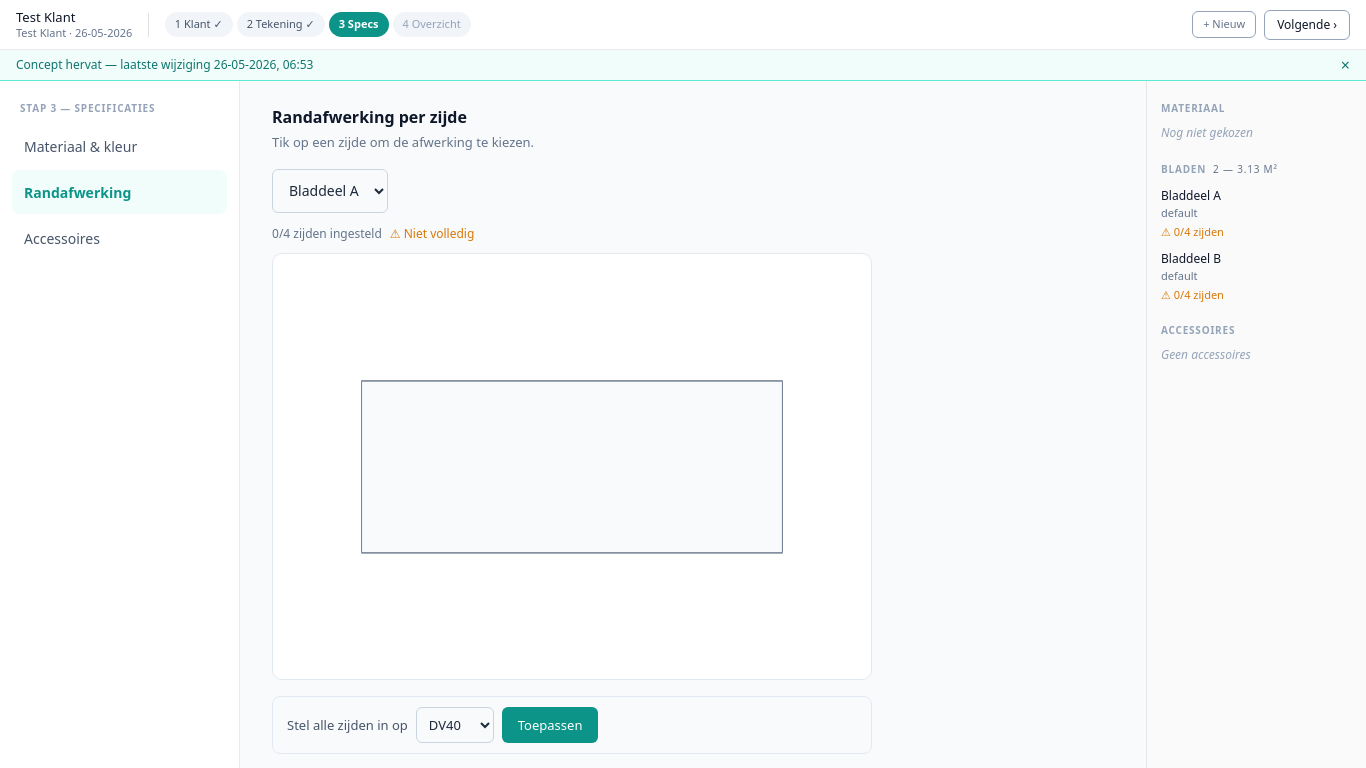
Test: Scenario 4 — Nieuwe opname met confirm › annuleren: modal sluiten behoudt concept en bladen
Expected: the text "Concept hervat — laatste wijziging 26-05-2026, 06:53" is shown, [16,56,313,74]
Click the button "+ Nieuw". click: {"x": 1224, "y": 25}
box: [1192,11,1256,38]
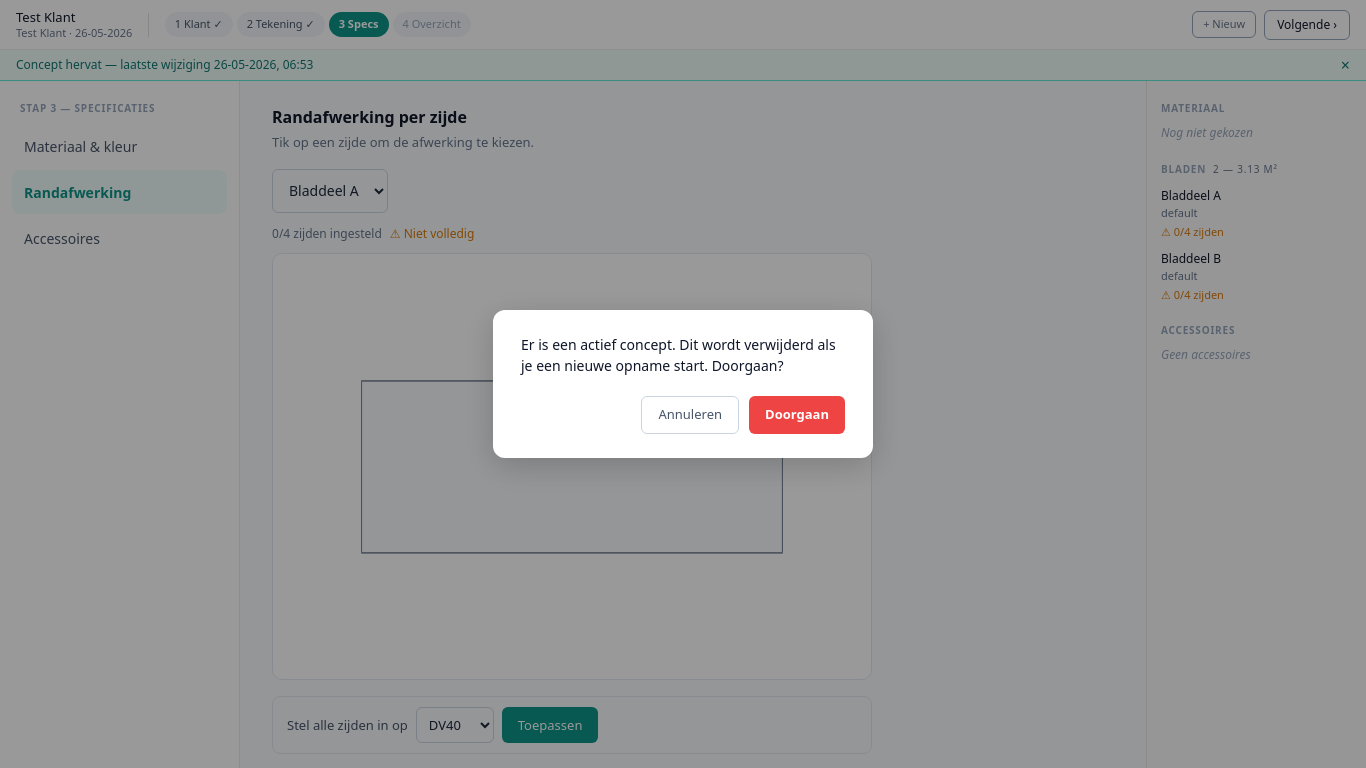
Now the text "actief concept" is shown, box [521,335,836,375]
Click the button "Annuleren". click: {"x": 690, "y": 415}
box: [642,396,739,434]
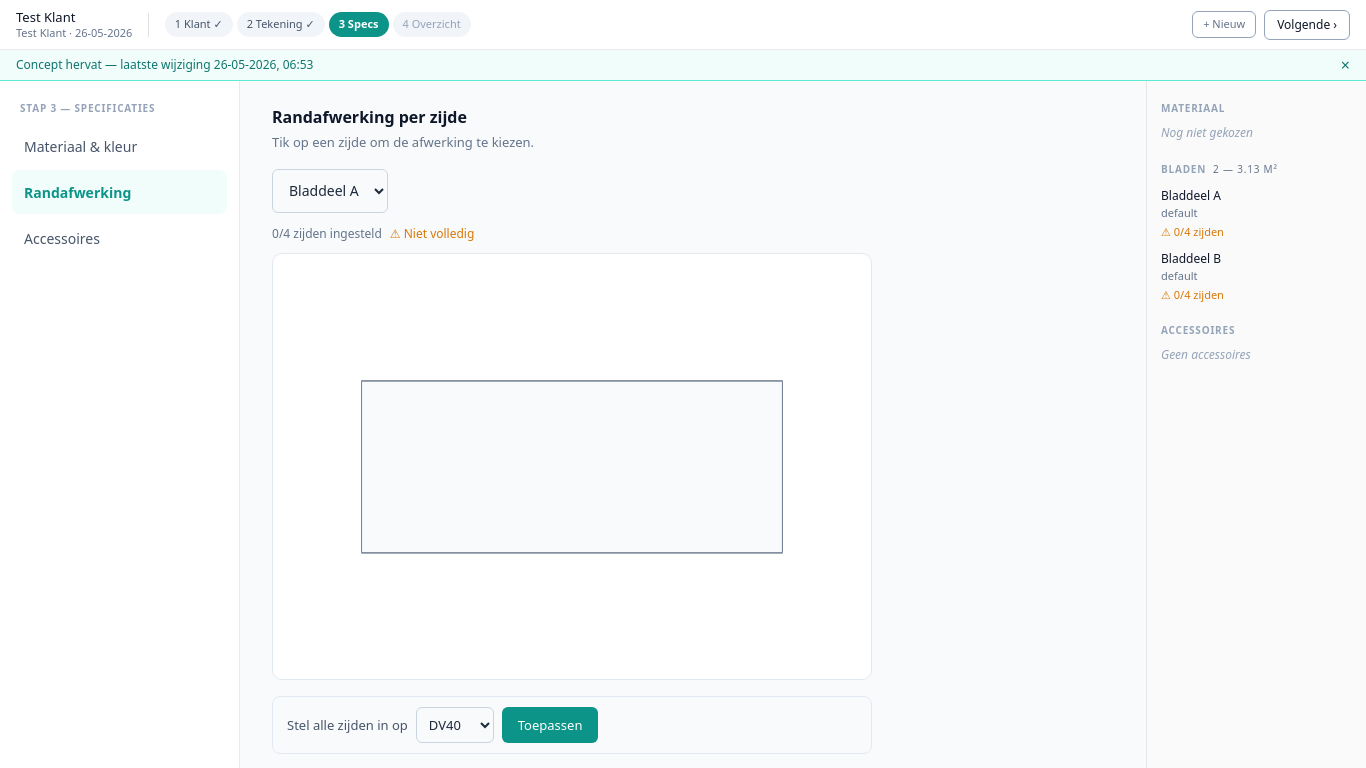
Now the text "actief concept" is gone
